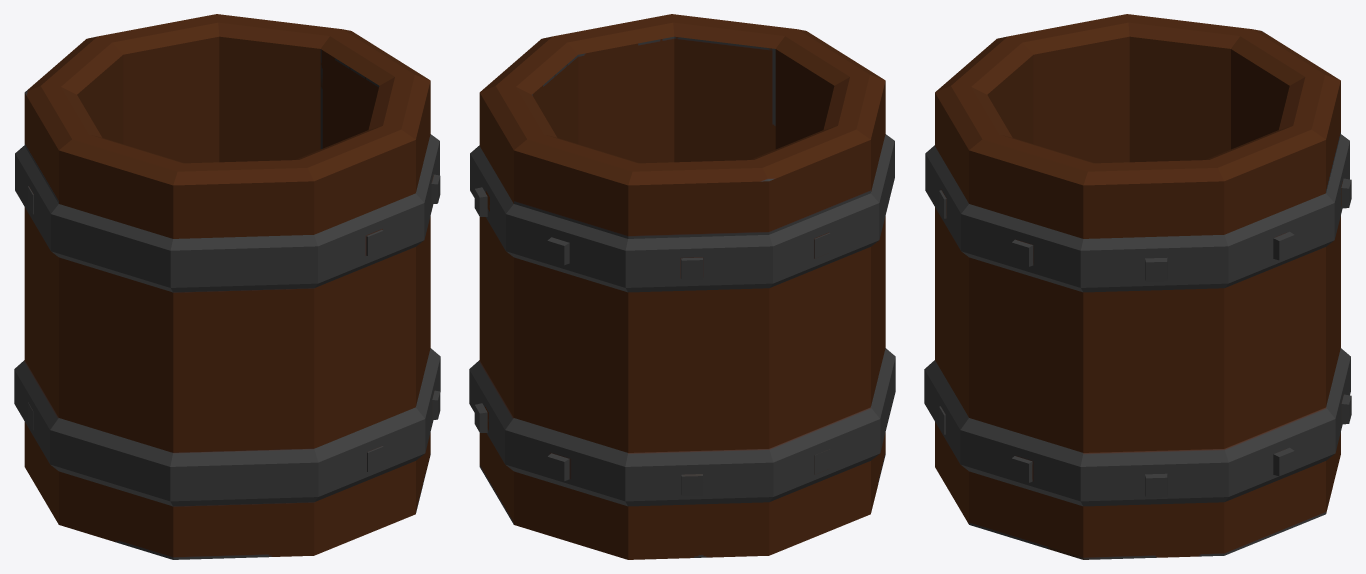
Rendered from BUCKET.fbx.
The picture shows the model from 3 angles, left to right: view 1: azimuth 30°, elevation 25°; view 2: azimuth 150°, elevation 25°; view 3: azimuth 270°, elevation 25°; orthographic projection.
Parts seen in each view (by area): view 1: Cylinder.002; view 2: Cylinder.002; view 3: Cylinder.002.
Part boxes in pixels (x1,y1,x2,y2): Cylinder.002: [14, 14, 440, 559]; Cylinder.002: [469, 14, 895, 559]; Cylinder.002: [924, 14, 1351, 559].
Size of the model in its own units: 29.5 by 28.94 by 29.34.
